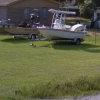Boat: (33, 3, 93, 51)
